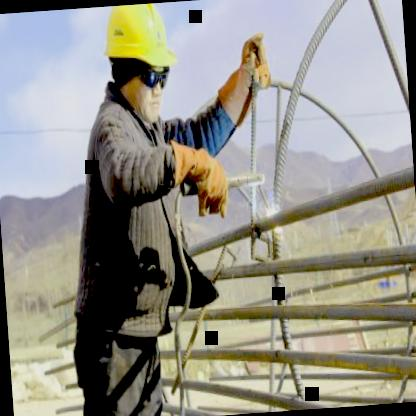helmet: (95, 2, 180, 129)
